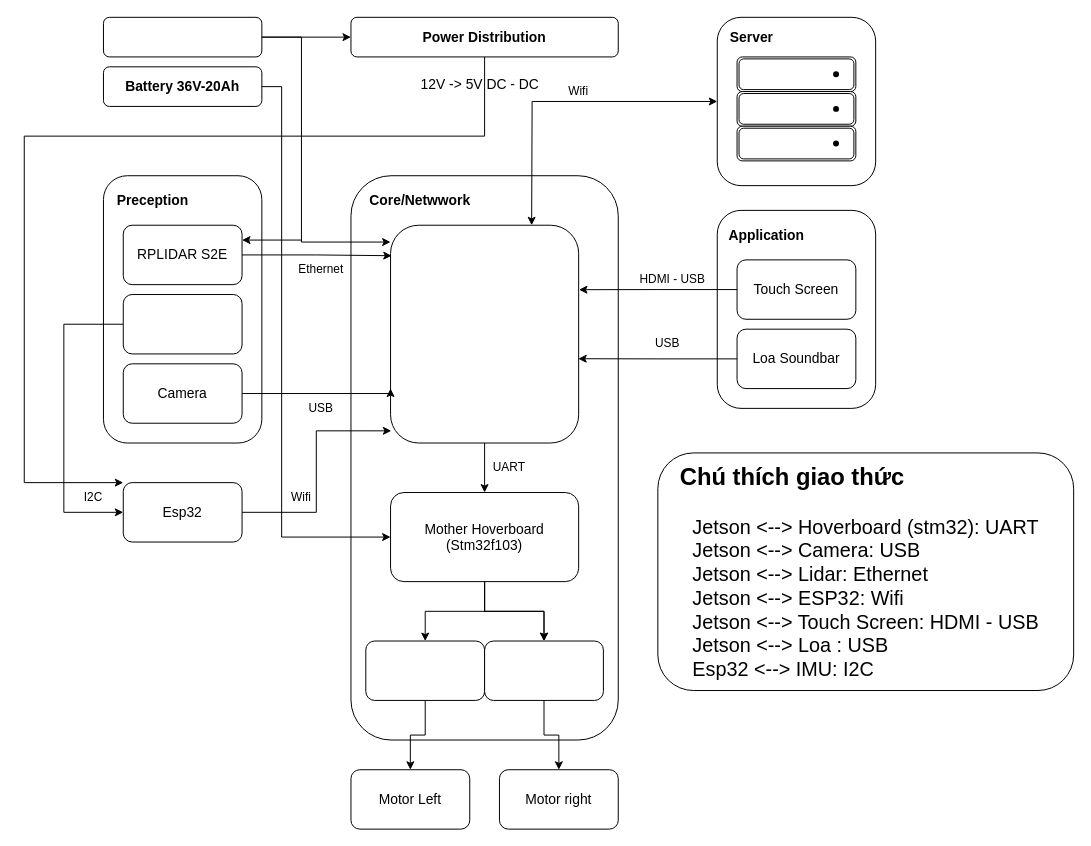
The diagram is 1091 pixels wide and 846 high, and some of its shapes have lost their labels. Each missing label, with the centre of its shape:
Battery 12V-15Ah: [182,36]
Driver Left: [425,670]
Driver right: [543,670]
IMU: [182,324]
Jetson X221-AI: [484,333]
